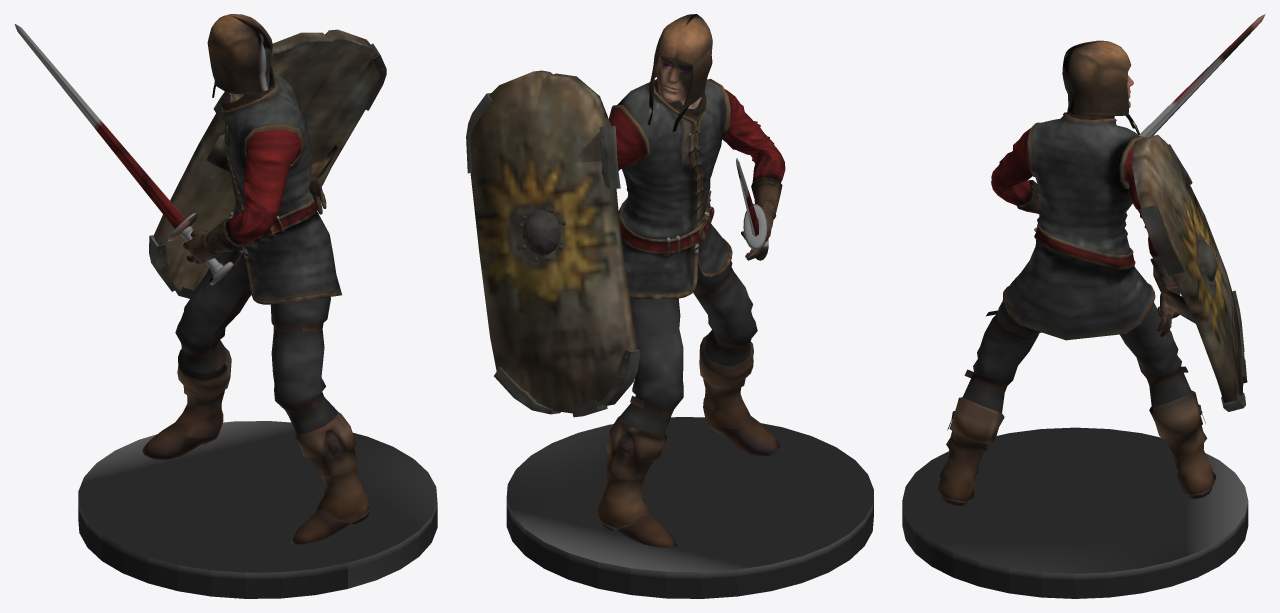
3 views of the same model, side by side, from view 1: azimuth 30°, elevation 25°; view 2: azimuth 150°, elevation 25°; view 3: azimuth 270°, elevation 25° (orthographic). The views are drawn at different scales.
Parts seen in each view (by area): view 1: male_01_gatekeeper_light_body.smd; view 2: male_01_gatekeeper_light_body.smd; view 3: male_01_gatekeeper_light_body.smd.
Boxes of the visible parts, x1,y1,x2,y2 form: male_01_gatekeeper_light_body.smd: [14, 14, 437, 598]; male_01_gatekeeper_light_body.smd: [466, 14, 873, 598]; male_01_gatekeeper_light_body.smd: [902, 14, 1265, 598].
Size of the model in its own units: 1.17 by 1.72 by 1.18.
1 material, 1 textured.
